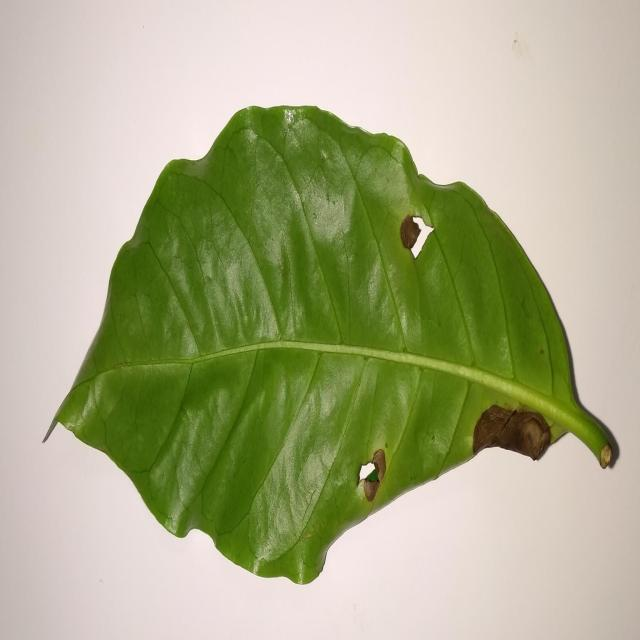Enfermedad-Antracnosis: (48, 105, 622, 587)
